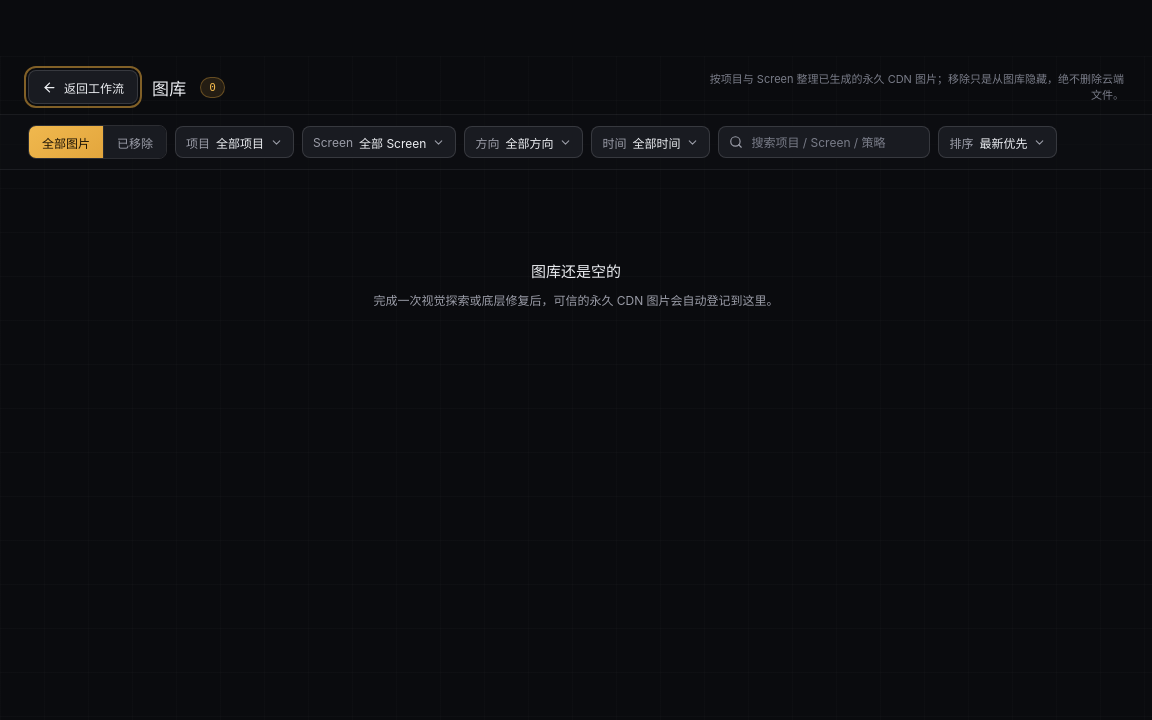
GalleryWorkspace 列表与筛选 › 下拉展开时按 Escape 只收起列表，不关闭图库
Expected: the text "图库还是空的" is shown, [531,260,621,281]
Click the dropdown named "按画布方向筛选".
click(539, 142)  # box [505,134,572,150]
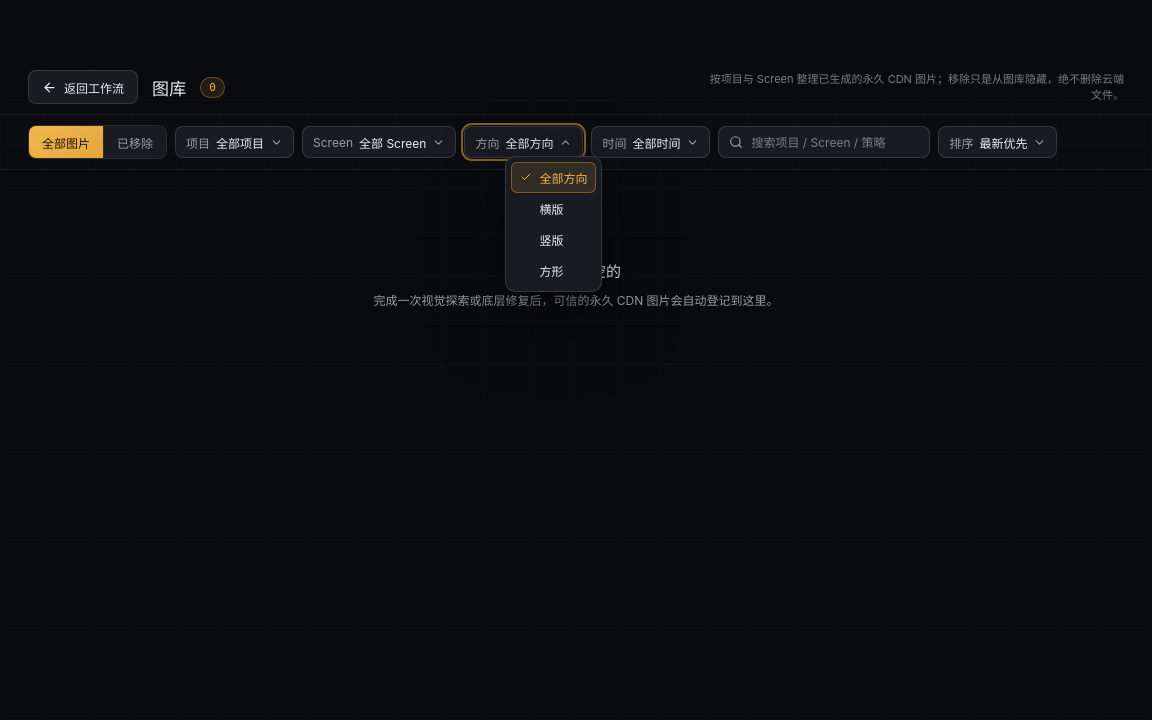
Result: the list named "按画布方向筛选" is shown at [505,156,602,292]
Press Escape
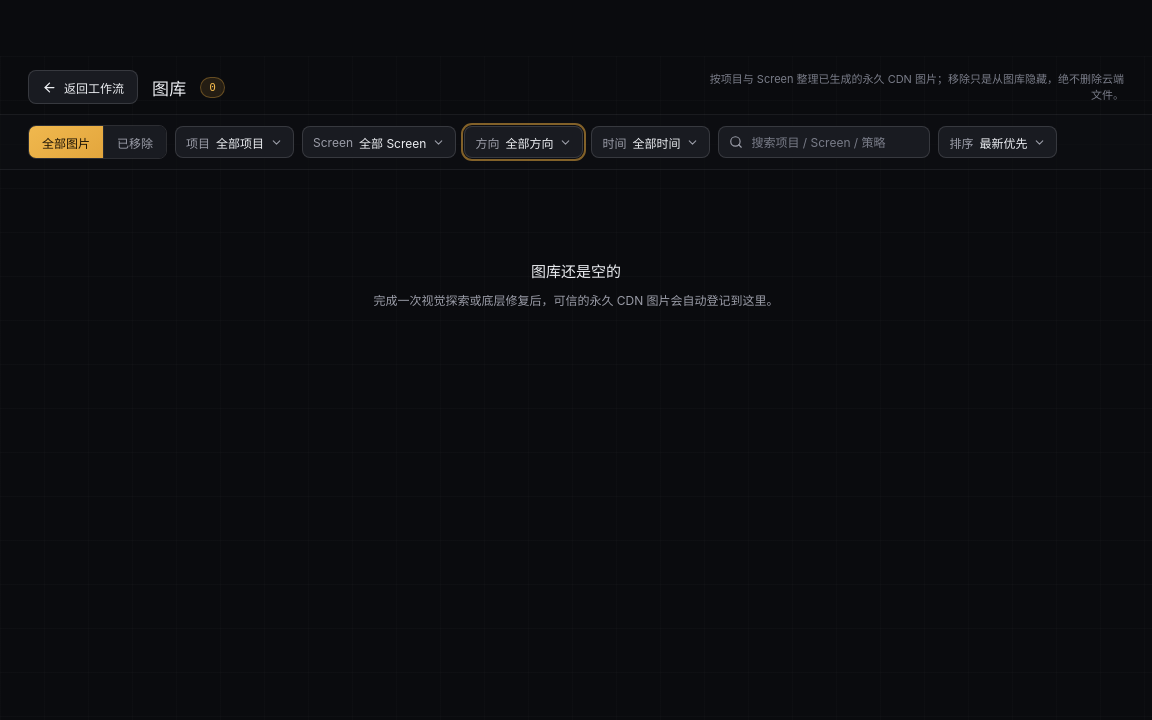
Result: the list is gone
